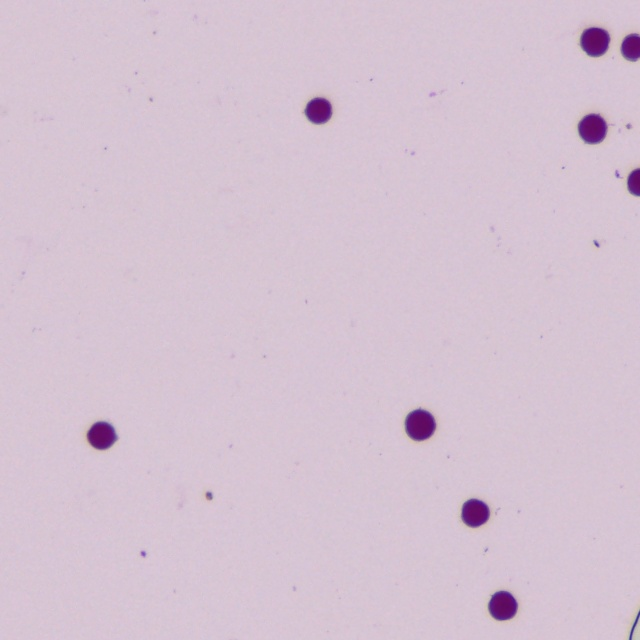viable: (406, 410, 435, 440), (489, 592, 517, 620), (88, 422, 117, 449), (579, 114, 606, 143), (462, 499, 489, 527), (582, 28, 609, 56), (306, 98, 331, 123), (622, 34, 639, 60), (628, 170, 639, 195)
